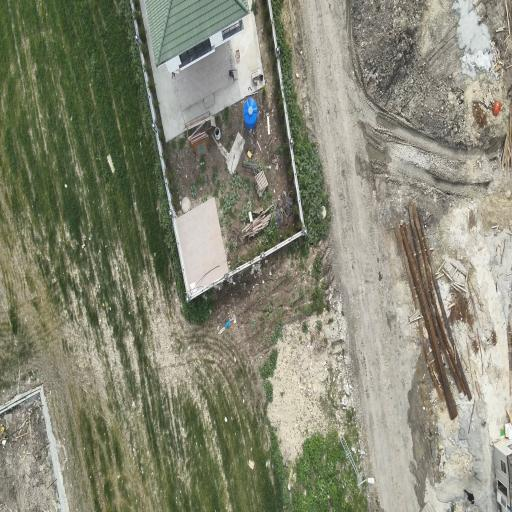person: (464, 490, 474, 503)
